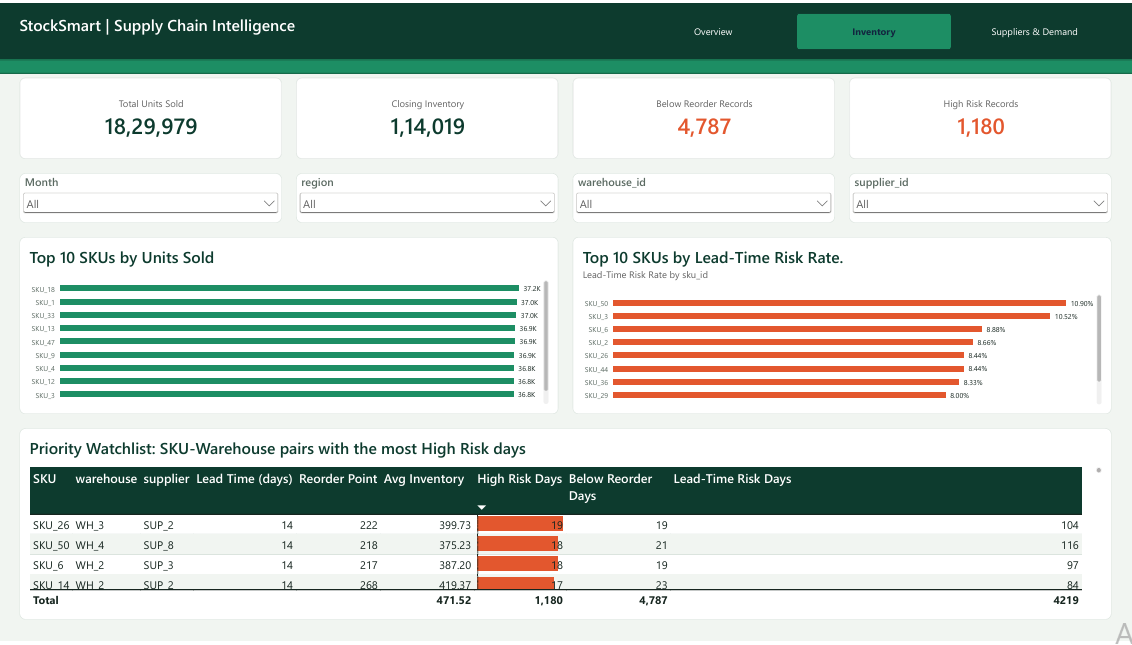

What the dashboard file says about the page in this screenshot:
{"tool":"powerbi","page":{"name":"Inventory","canvas":[1920,1080],"ordinal":1},"visuals":[{"type":"shape","box":[0,0,1921,96],"z":0},{"type":"textbox","box":[36,18,900,60],"z":1000},{"type":"shape","box":[0,96,1921,23.1],"z":2000},{"type":"pageNavigator","box":[1080,18,804,60],"z":3000},{"type":"cardVisual","fields":{"Data":["inventory_enriched.Total Units Sold"]},"box":[36,126,444,138],"z":4000},{"type":"cardVisual","fields":{"Data":["inventory_enriched.Closing Inventory"]},"box":[504,126,444,138],"z":5000},{"type":"cardVisual","fields":{"Data":["inventory_enriched.Below Reorder Records"]},"box":[972,126,444,138],"z":6000},{"type":"cardVisual","fields":{"Data":["inventory_enriched.High Risk Records"]},"box":[1440,126,444,138],"z":7000},{"type":"slicer","fields":{"Values":["Calendar.Month"]},"box":[36,288,444,84],"z":8000},{"type":"slicer","fields":{"Values":["inventory_enriched.supplier_id"]},"box":[1440,288,444,84],"z":9000},{"type":"slicer","fields":{"Values":["inventory_enriched.warehouse_id"]},"box":[972,288,444,84],"z":10000},{"type":"slicer","fields":{"Values":["inventory_enriched.region"]},"box":[504,288,444,84],"z":11000},{"type":"clusteredBarChart","title":"Top 10 SKUs by Units Sold","fields":{"Category":["inventory_enriched.sku_id"],"Y":["inventory_enriched.Total Units Sold"]},"box":[36,396,912,300],"z":12000},{"type":"clusteredBarChart","title":"Top 10 SKUs by Lead-Time Risk Rate.","fields":{"Category":["inventory_enriched.sku_id"],"Y":["inventory_enriched.Lead-Time Risk Rate"]},"box":[972,396,912,300],"z":13000},{"type":"tableEx","title":"Priority Watchlist: SKU-Warehouse pairs with the most High Risk days","fields":{"Values":["inventory_enriched.sku_id","inventory_enriched.warehouse_id","inventory_enriched.supplier_id","inventory_enriched.supplier_lead_time_days","inventory_enriched.reorder_point","inventory_enriched.Avg Inventory","inventory_enriched.High Risk Records","inventory_enriched.Below Reorder Records","inventory_enriched.Lead-Time Risk Records"]},"box":[36,720,1848,324],"z":14000}]}

Visuals, with their boxes in screenshot pixels (x1, y1, x2, y2), scaled from the page's 1920x1080 canvas onto the 1132x645 screenshot:
shape: (left=0, top=0, right=1131, bottom=57)
textbox: (left=21, top=11, right=552, bottom=47)
shape: (left=0, top=57, right=1131, bottom=71)
pageNavigator: (left=637, top=11, right=1111, bottom=47)
cardVisual - inventory_enriched.Total Units Sold: (left=21, top=75, right=283, bottom=158)
cardVisual - inventory_enriched.Closing Inventory: (left=297, top=75, right=559, bottom=158)
cardVisual - inventory_enriched.Below Reorder Records: (left=573, top=75, right=835, bottom=158)
cardVisual - inventory_enriched.High Risk Records: (left=849, top=75, right=1111, bottom=158)
slicer - Calendar.Month: (left=21, top=172, right=283, bottom=222)
slicer - inventory_enriched.supplier_id: (left=849, top=172, right=1111, bottom=222)
slicer - inventory_enriched.warehouse_id: (left=573, top=172, right=835, bottom=222)
slicer - inventory_enriched.region: (left=297, top=172, right=559, bottom=222)
"Top 10 SKUs by Units Sold" clusteredBarChart: (left=21, top=236, right=559, bottom=416)
"Top 10 SKUs by Lead-Time Risk Rate." clusteredBarChart: (left=573, top=236, right=1111, bottom=416)
"Priority Watchlist: SKU-Warehouse pairs with the most High Risk days" tableEx: (left=21, top=430, right=1111, bottom=624)
